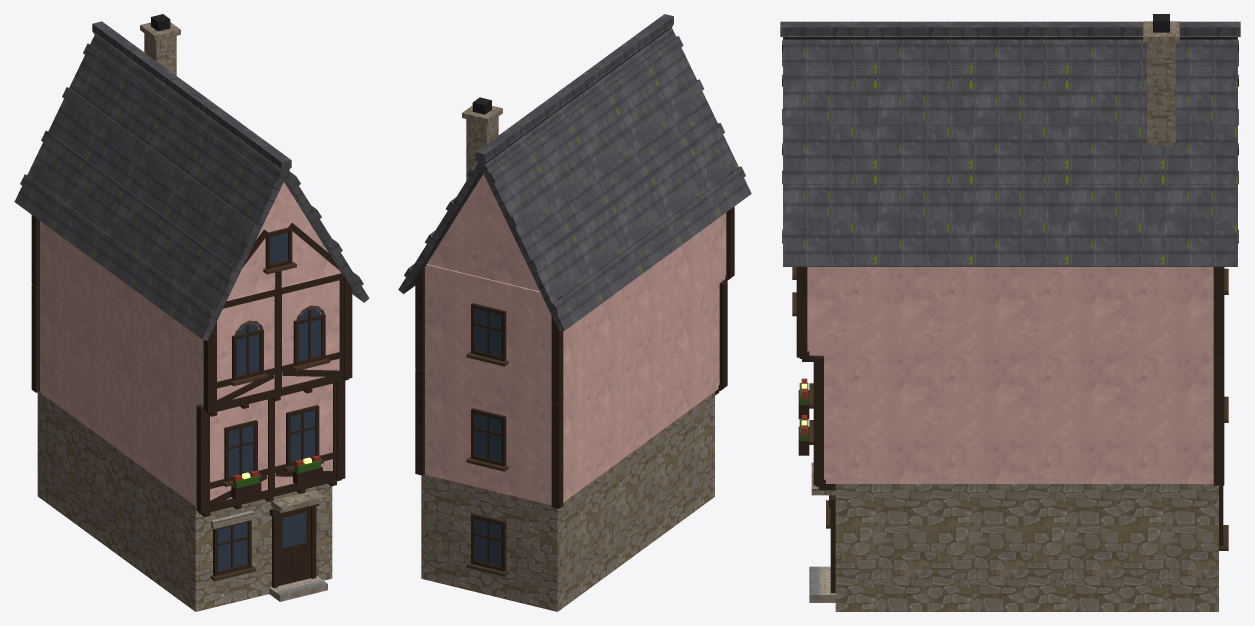
Rendered from narrow_house.glb.
The picture shows the model from 3 angles, left to right: view 1: azimuth 30°, elevation 25°; view 2: azimuth 150°, elevation 25°; view 3: azimuth 270°, elevation 25°; orthographic projection. The views are drawn at different scales.
Parts seen in each view (by area): view 1: narrow_house; view 2: narrow_house; view 3: narrow_house.
Boxes of the visible parts, bbox=[...] form: narrow_house: bbox=[14, 14, 369, 611]; narrow_house: bbox=[398, 14, 751, 611]; narrow_house: bbox=[780, 14, 1240, 611].
Bounding box in the file's own units: 4.9 × 13.17 × 9.6.
10 materials, 5 textured.
